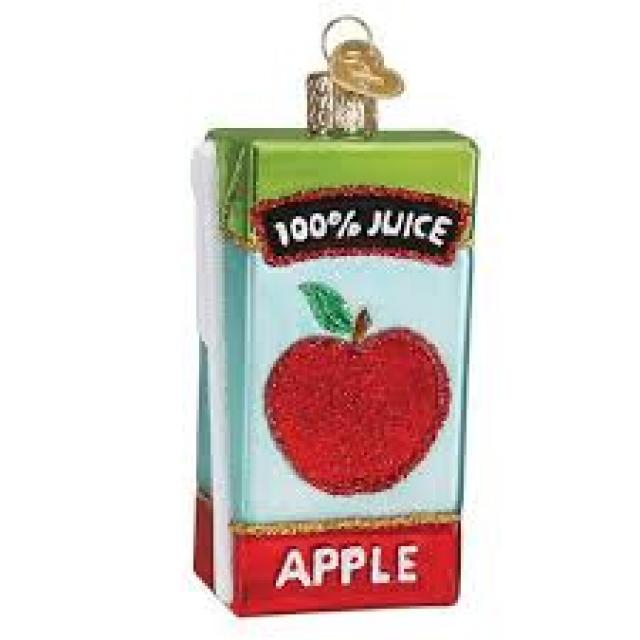non_white_jug: (174, 81, 475, 633)
